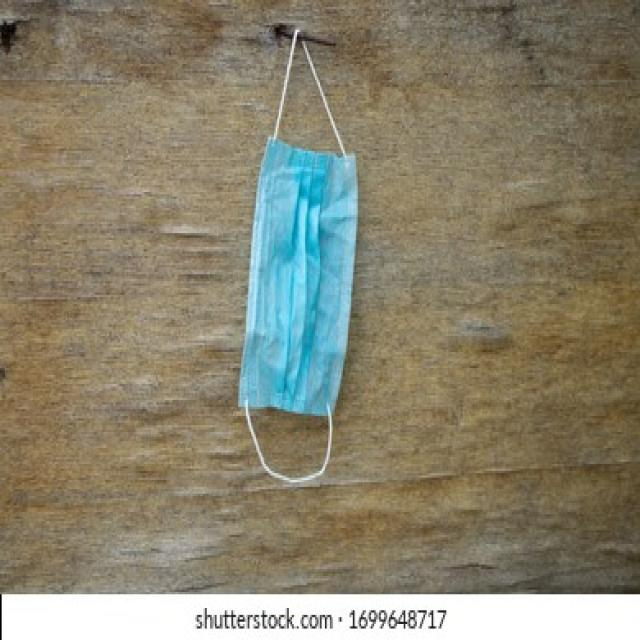non-organic waste: (240, 32, 360, 482)
